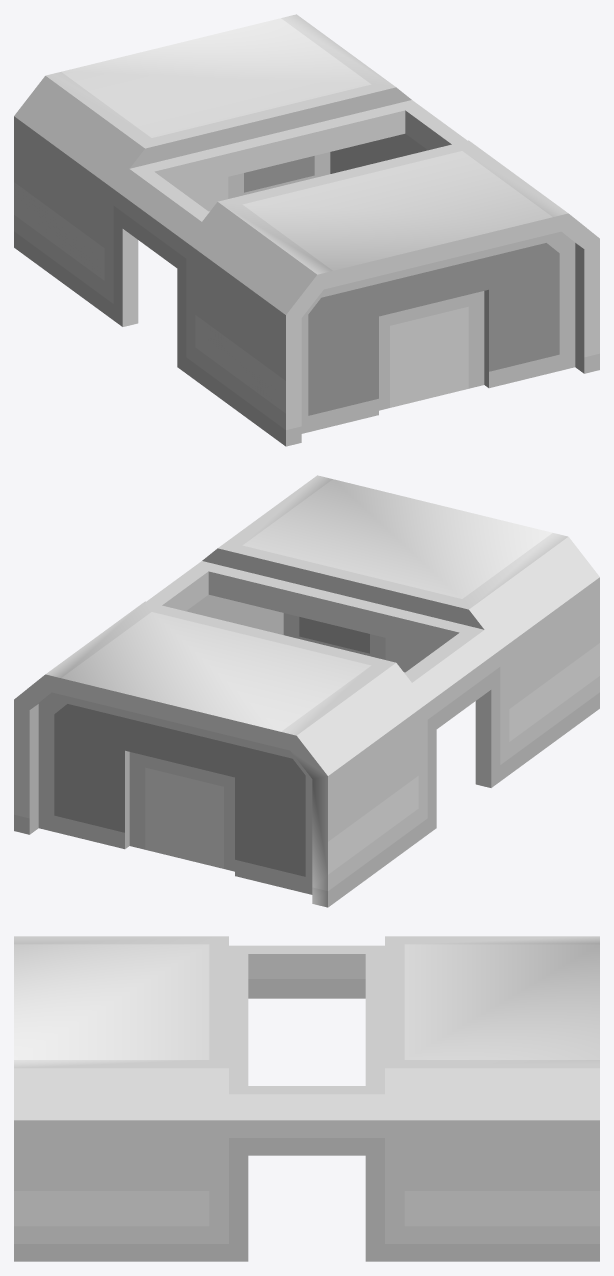
File: gtfc_airfield.glb
3 renders of one model, top to bottom at view 1: azimuth 30°, elevation 25°; view 2: azimuth 150°, elevation 25°; view 3: azimuth 270°, elevation 25°, orthographic. The views are drawn at different scales.
Parts seen in each view (by area): view 1: Body; view 2: Body; view 3: Body.
Part boxes in pixels (x1=…): Body: x1=14, y1=14, x2=599, y2=446; Body: x1=14, y1=475, x2=599, y2=907; Body: x1=14, y1=936, x2=599, y2=1261.
Size of the model in its own units: 13.33 by 6.67 by 20.
2 materials, 1 textured.
